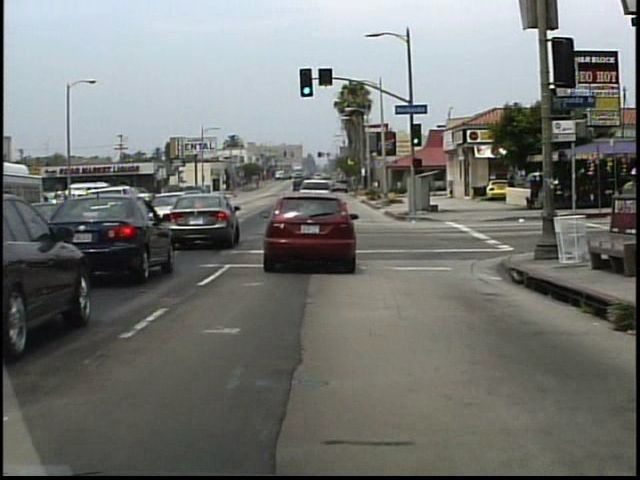person: (504, 172, 517, 206)
